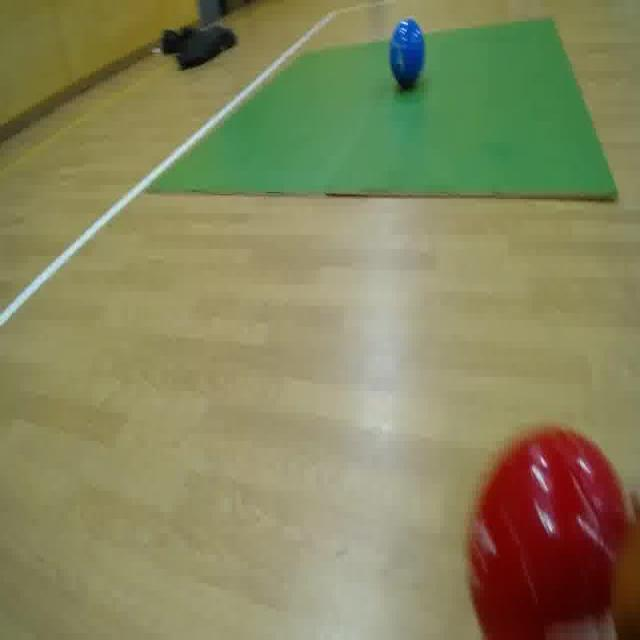blue_ball: (388, 16, 427, 90)
red_ball: (462, 429, 640, 639)
